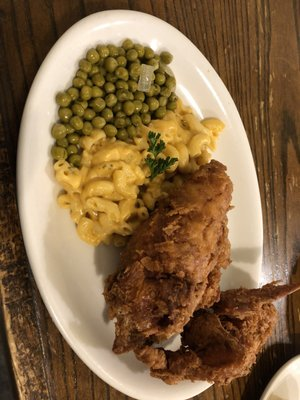sushi: (16, 5, 291, 396)
